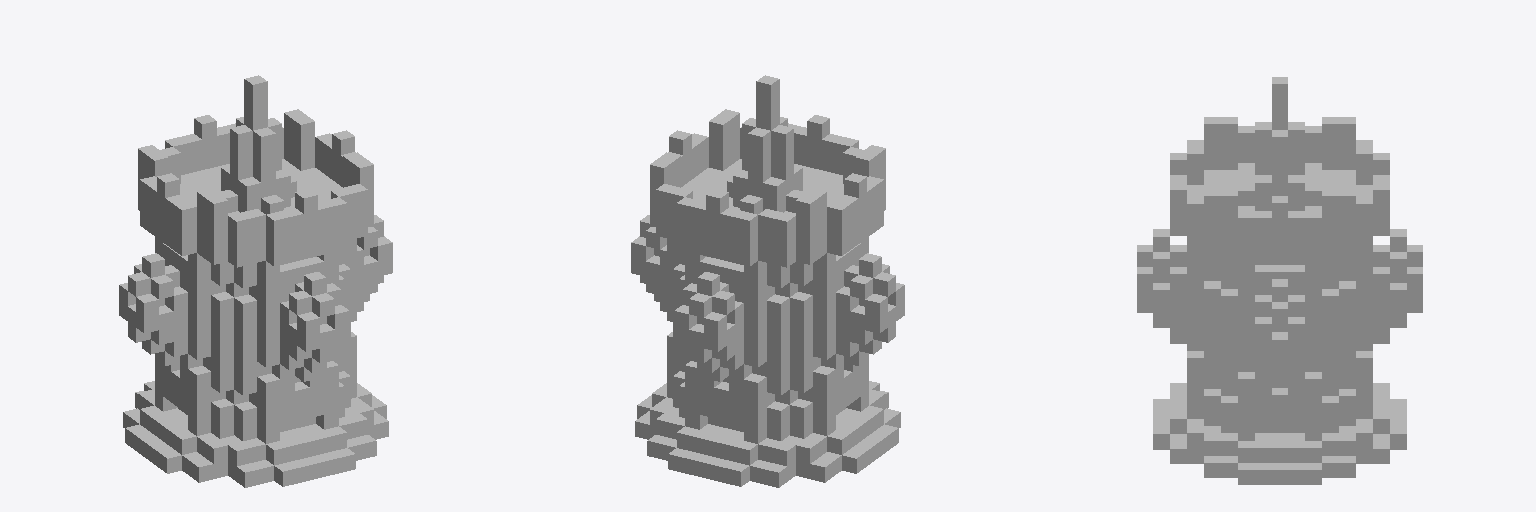
File: Snow_tower_2.obj
3 renders of one model, left to right at view 1: azimuth 30°, elevation 25°; view 2: azimuth 150°, elevation 25°; view 3: azimuth 270°, elevation 25°, orthographic.
Size of the model in its own units: 17 by 23 by 17.